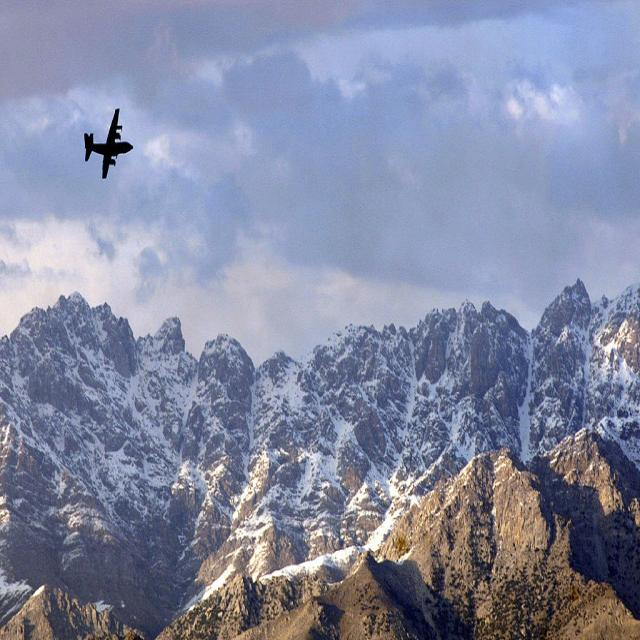MIL_Plane: (84, 108, 134, 179)
